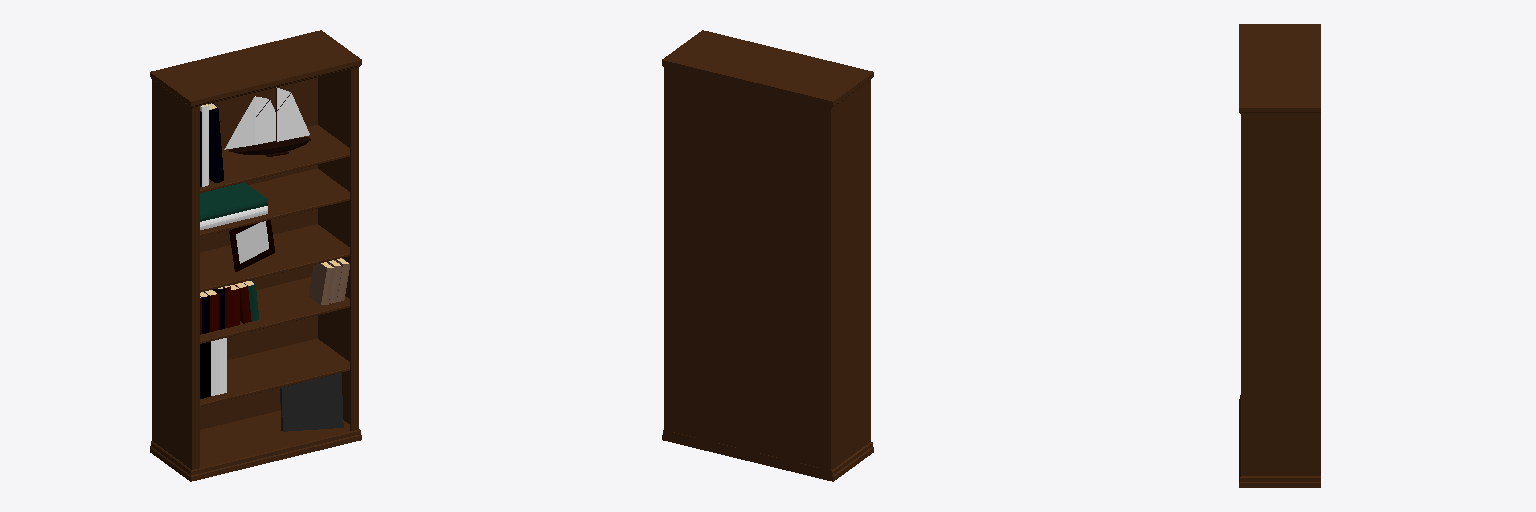
Rendered from estanteria.obj.
3 views of the same model, side by side, from view 1: azimuth 30°, elevation 25°; view 2: azimuth 150°, elevation 25°; view 3: azimuth 270°, elevation 25° (orthographic).
Parts seen in each view (by area): view 1: Bookcase_67, Bookcase_112_68, 8, Sails_4, 11, Picture_2, 29, Frame_3, 18, 27, 24, 14; view 2: Bookcase_67; view 3: Bookcase_67.
Boxes of the visible parts, x1,y1,x2,y2 form: Bookcase_67: [150, 30, 361, 481]; Bookcase_112_68: [192, 67, 358, 469]; 8: [281, 373, 343, 431]; Sails_4: [224, 87, 309, 149]; 11: [200, 182, 266, 215]; Picture_2: [236, 221, 268, 263]; 29: [211, 338, 226, 395]; Frame_3: [229, 220, 274, 271]; 18: [210, 108, 223, 182]; 27: [200, 342, 210, 398]; 24: [202, 105, 208, 186]; 14: [200, 206, 267, 229]; Bookcase_67: [662, 30, 873, 481]; Bookcase_67: [1239, 24, 1320, 487].
Bounding box in the file's own units: 85 × 180 × 35.